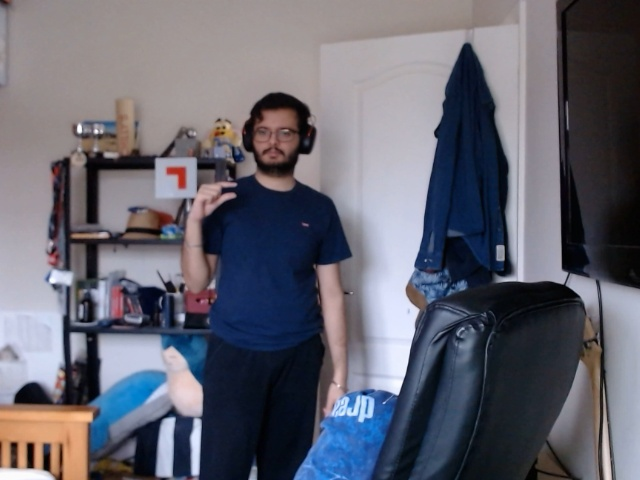Small: (176, 168, 243, 229)
